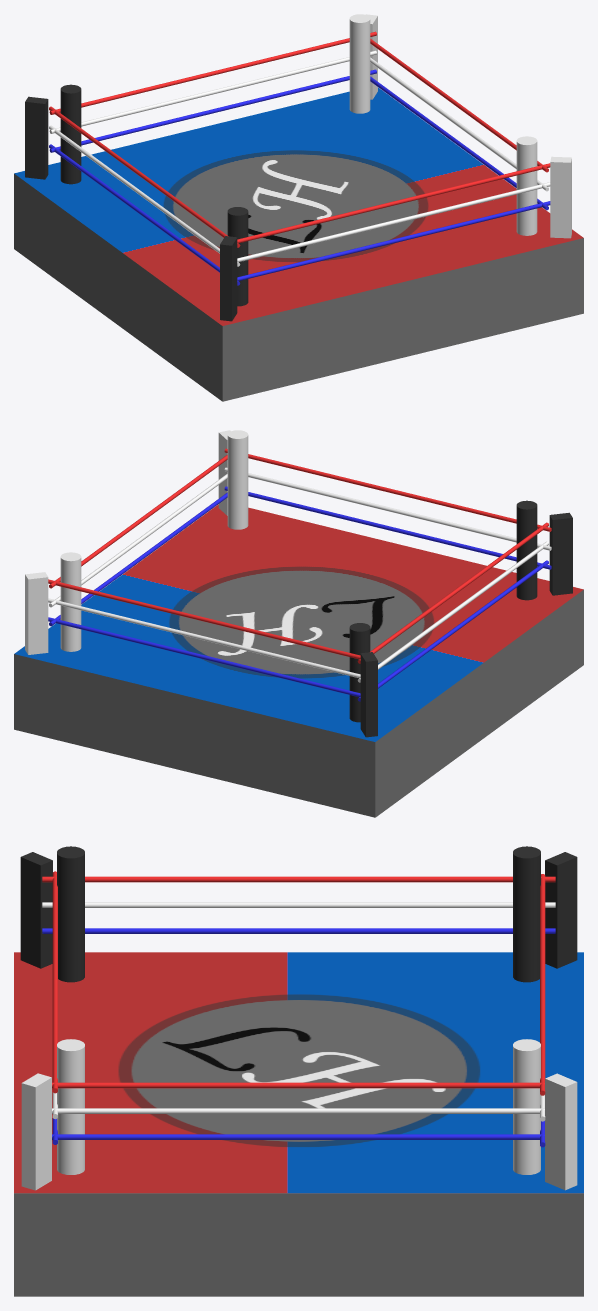
File: Ring.FBX
The picture shows the model from 3 angles, top to bottom: view 1: azimuth 30°, elevation 25°; view 2: azimuth 150°, elevation 25°; view 3: azimuth 270°, elevation 25°; orthographic projection. The views are drawn at different scales.
Parts seen in each view (by area): view 1: Ring; view 2: Ring; view 3: Ring.
Part boxes in pixels (x1,y1,x2,y2): Ring: [14, 14, 583, 401]; Ring: [14, 430, 583, 817]; Ring: [14, 846, 583, 1296].
Bounding box in the file's own units: 394 × 173 × 394.
